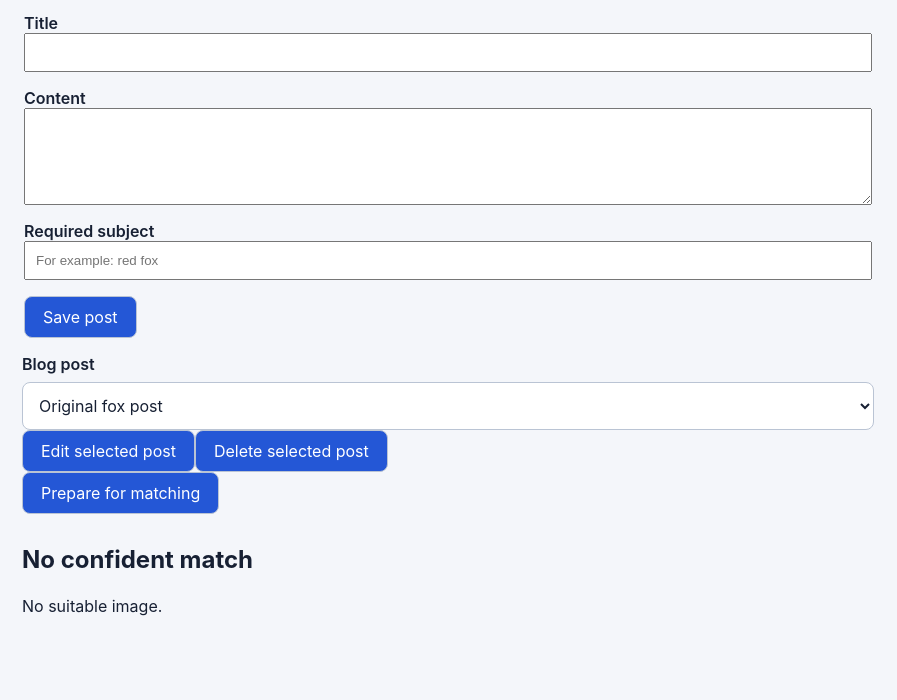
it: switching posts closes the editor and aborts its load
(page scrolled)
expect the heading "No confident match" is shown: met, box [22,545,253,574]
Click the button "Edit selected post": (108, 451) [22,430,195,472]
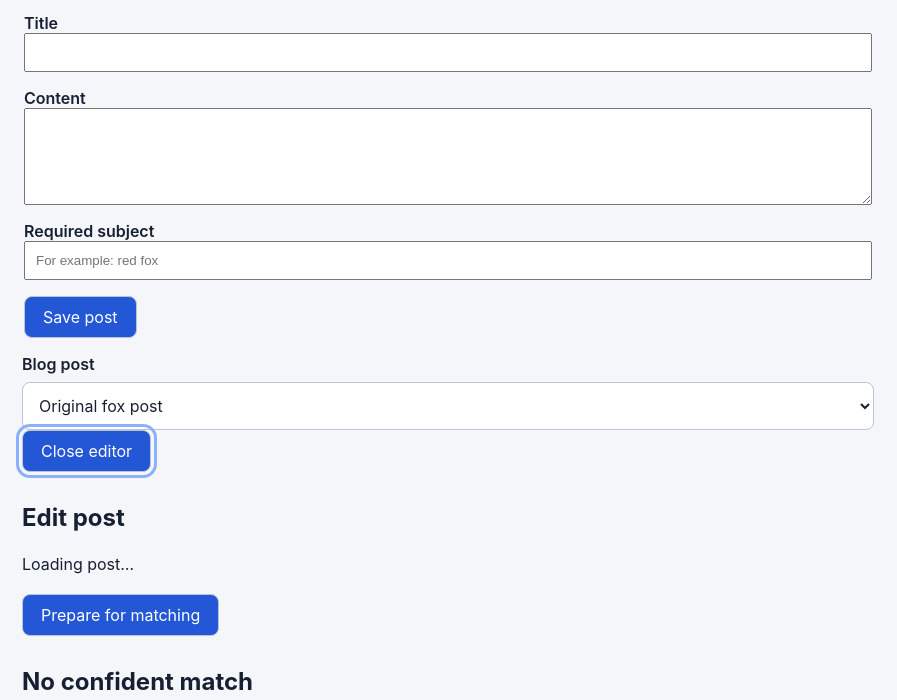
Select "Another post" in the dropdown labelled "Blog post": (448, 406) [22,382,874,430]
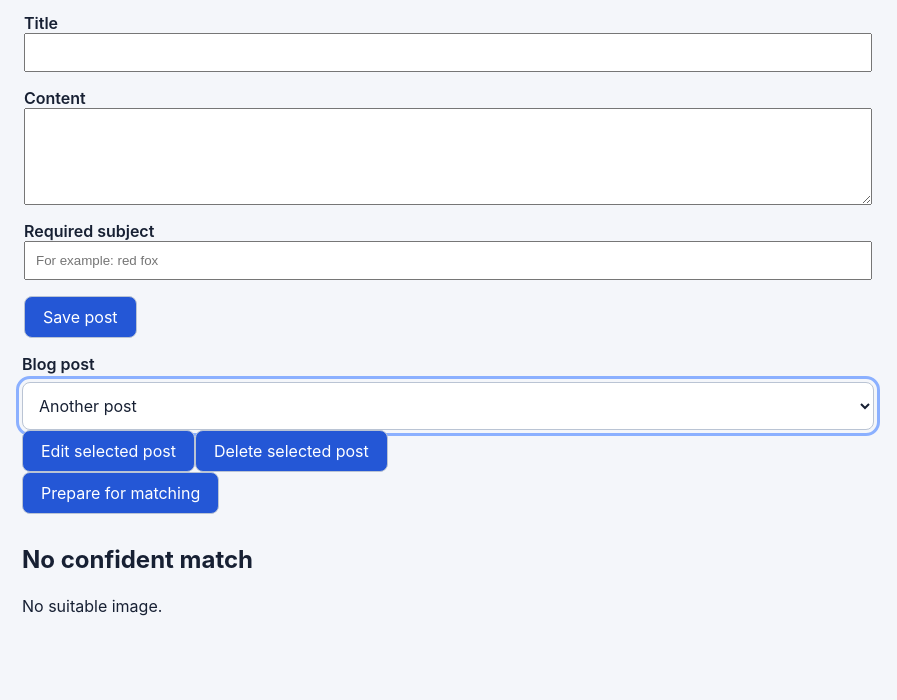
expect the heading "Edit post" is gone: met
